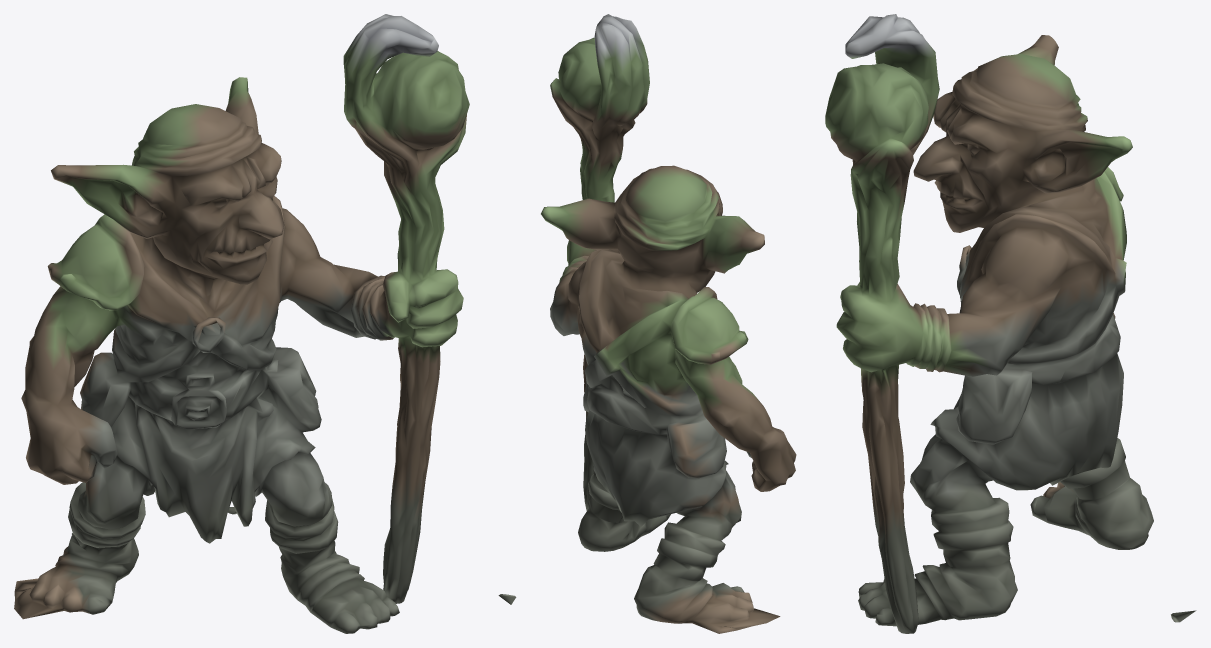
The model's file is staff.glb.
3 views of the same model, side by side, from view 1: azimuth 30°, elevation 25°; view 2: azimuth 150°, elevation 25°; view 3: azimuth 270°, elevation 25° (orthographic). The views are drawn at different scales.
Visible parts, largest first — view 1: world; view 2: world; view 3: world.
Boxes of the visible parts, box(x1,y1,x2,y2) form: world: box(14, 14, 469, 633); world: box(498, 14, 796, 633); world: box(825, 14, 1196, 633).
Bounding box in the file's own units: 0.9843 × 1.55 × 0.8603.
